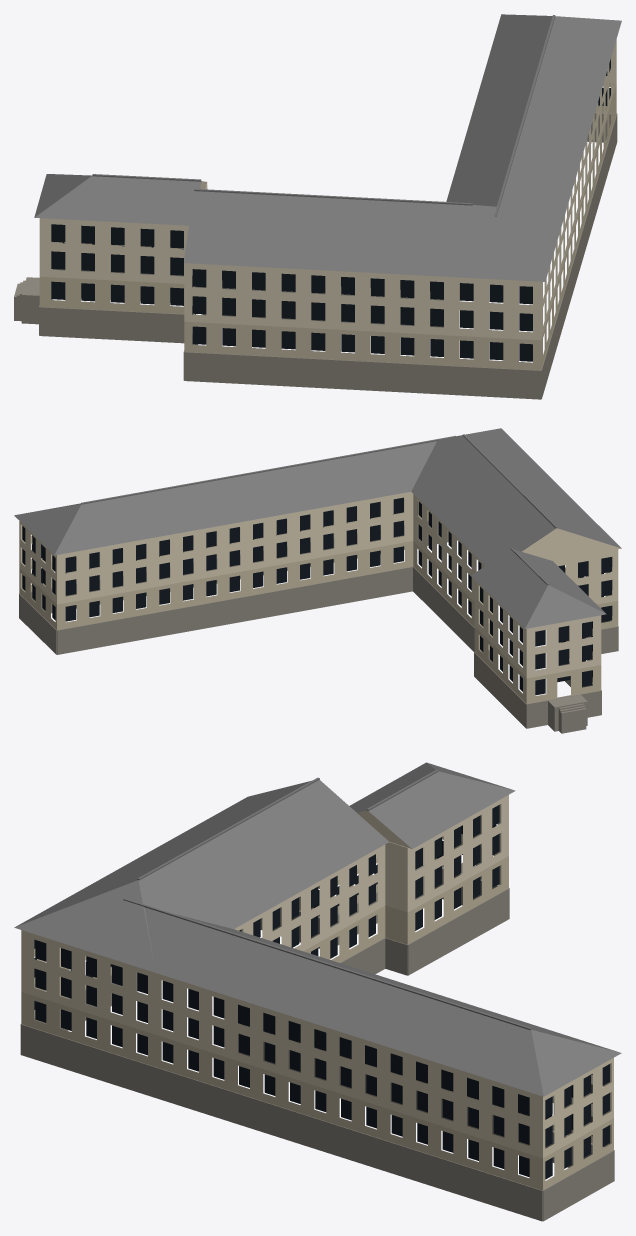
Rendered from odesskaya5.lod.glb.
The picture shows the model from 3 angles, top to bottom: view 1: azimuth 30°, elevation 25°; view 2: azimuth 150°, elevation 25°; view 3: azimuth 270°, elevation 25°; orthographic projection. The views are drawn at different scales.
Parts seen in each view (by area): view 1: odesskaya5_roof, odesskaya5_wall, odesskaya5_stone, odesskaya5_wall2, odesskaya5_glass; view 2: odesskaya5_roof, odesskaya5_wall, odesskaya5_stone, odesskaya5_wall2, odesskaya5_glass; view 3: odesskaya5_roof, odesskaya5_wall, odesskaya5_stone, odesskaya5_wall2, odesskaya5_glass.
Boxes of the visible parts, x1,y1,x2,y2 form: odesskaya5_roof: (34, 14, 621, 281); odesskaya5_wall: (39, 39, 616, 340); odesskaya5_stone: (14, 112, 617, 399); odesskaya5_wall2: (39, 82, 616, 370); odesskaya5_glass: (51, 59, 610, 361); odesskaya5_roof: (14, 428, 621, 628); odesskaya5_wall: (19, 492, 621, 678); odesskaya5_stone: (19, 520, 618, 733); odesskaya5_wall2: (19, 499, 618, 703); odesskaya5_glass: (22, 497, 612, 695); odesskaya5_roof: (14, 762, 621, 1096); odesskaya5_wall: (21, 795, 613, 1158); odesskaya5_stone: (20, 862, 614, 1221); odesskaya5_wall2: (21, 836, 613, 1190); odesskaya5_glass: (34, 805, 609, 1179).
Bounding box in the file's own units: 84.34 × 19.87 × 64.81.
